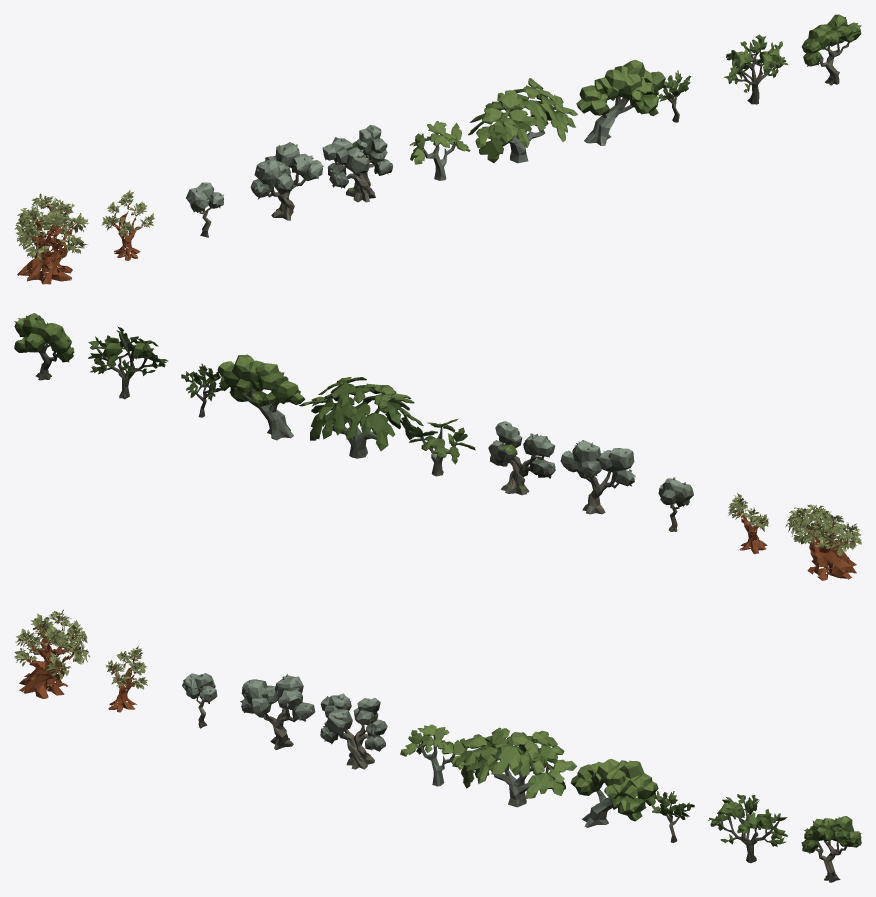
Rendered from arvores_tripo.glb.
The picture shows the model from 3 angles, top to bottom: view 1: azimuth 30°, elevation 25°; view 2: azimuth 150°, elevation 25°; view 3: azimuth 330°, elevation 25°; orthographic projection.
Parts seen in each view (by area): view 1: Arvore5, Oliveira_Grande, Arvore6, Arvore3, Arvore2, Arvore9, Arvore8, Arvore4, Oliveira_Pequena, Arvore1, Arvore7; view 2: Arvore5, Arvore6, Oliveira_Grande, Arvore2, Arvore3, Arvore8, Arvore9, Arvore4, Oliveira_Pequena, Arvore1, Arvore7; view 3: Arvore5, Oliveira_Grande, Arvore6, Arvore3, Arvore2, Arvore8, Arvore9, Arvore4, Oliveira_Pequena, Arvore1, Arvore7.
Boxes of the visible parts, x1,y1,x2,y2 form: Arvore5: (468,78,577,163); Oliveira_Grande: (14,193,88,284); Arvore6: (576,59,665,145); Arvore3: (322,125,392,202); Arvore2: (250,142,323,220); Arvore9: (801,14,861,85); Arvore8: (724,34,788,104); Arvore4: (410,121,470,180); Oliveira_Pequena: (101,190,154,260); Arvore1: (186,182,223,237); Arvore7: (658,70,691,122); Arvore5: (299,377,423,458); Arvore6: (217,354,305,440); Oliveira_Grande: (785,504,861,580); Arvore2: (560,440,635,514); Arvore3: (488,421,555,495); Arvore8: (88,326,168,399); Arvore9: (14,313,74,380); Arvore4: (408,418,475,476); Oliveira_Pequena: (728,493,769,554); Arvore1: (658,477,693,531); Arvore7: (181,363,223,417); Arvore5: (452,727,576,807); Oliveira_Grande: (14,609,90,698); Arvore6: (570,759,658,827); Arvore3: (320,693,387,769); Arvore2: (240,674,315,749); Arvore8: (708,794,787,863); Arvore9: (801,816,861,882); Arvore4: (400,724,467,786); Oliveira_Pequena: (105,646,147,712); Arvore1: (182,673,217,728); Arvore7: (651,791,694,842).
Bounding box in the file's own units: 42.94 × 3.66 × 4.03.
